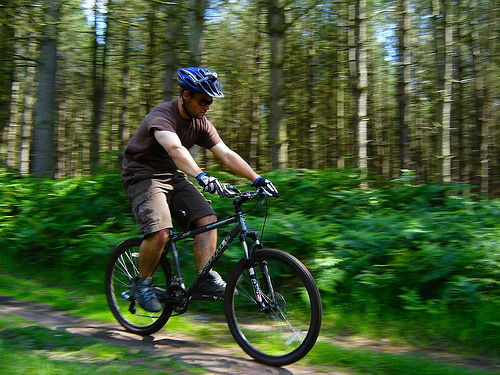helmet: (173, 59, 225, 95)
